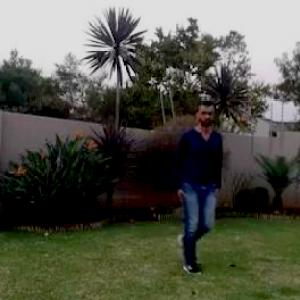follow: (175, 98, 222, 260)
